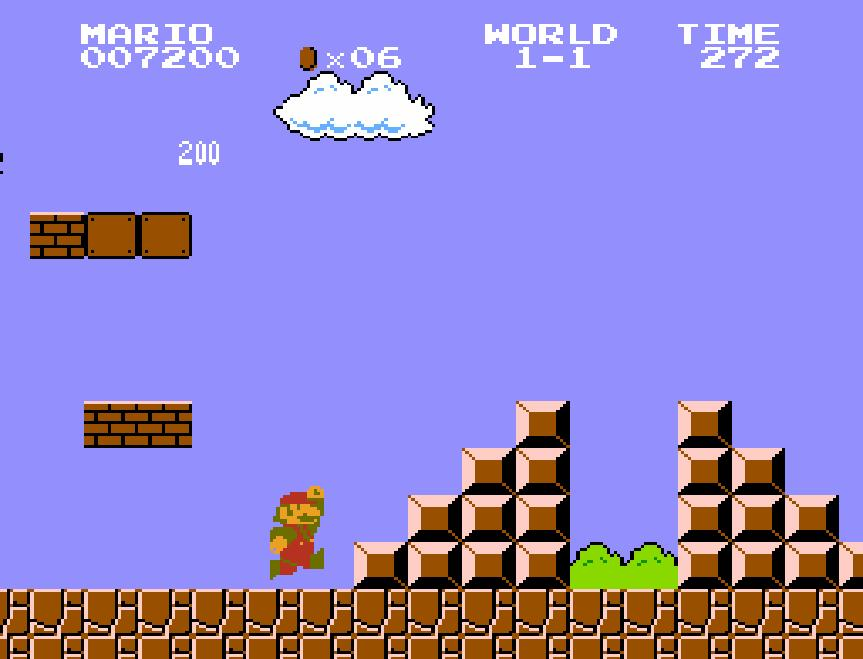big_mario: (267, 484, 325, 582)
